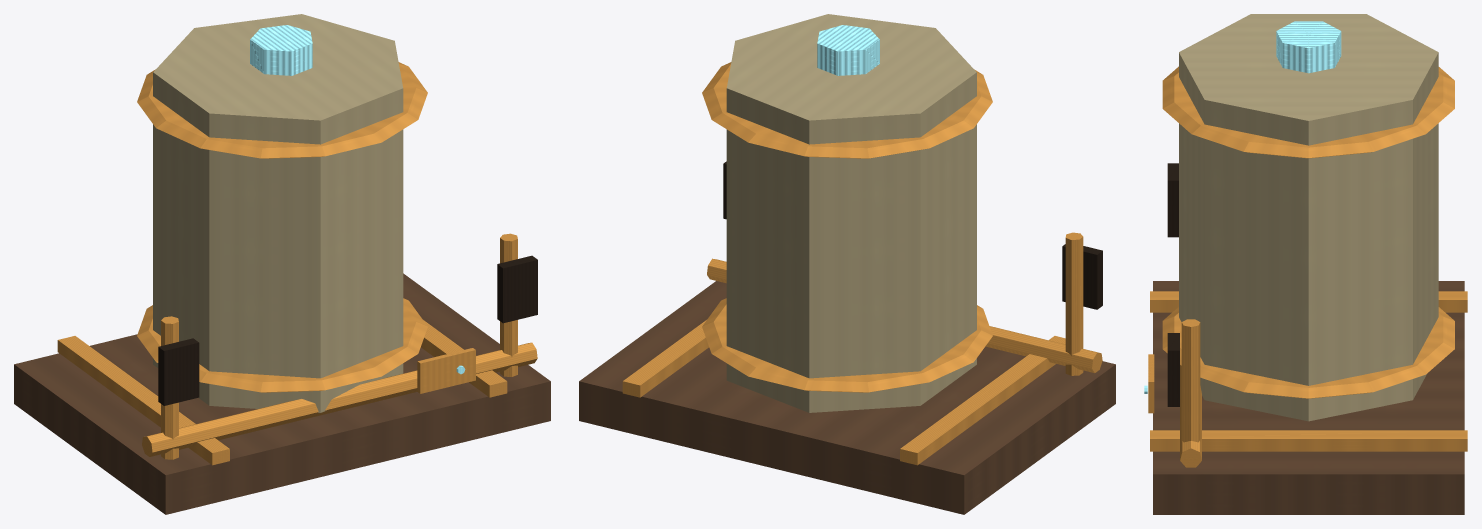
Rendered from atlas100-s015-a02.lod1.glb.
3 views of the same model, side by side, from view 1: azimuth 30°, elevation 25°; view 2: azimuth 150°, elevation 25°; view 3: azimuth 270°, elevation 25° (orthographic). The views are drawn at different scales.
Visible parts, largest first — view 1: atlas100-s015-a02:part-003, atlas100-s015-a02:part-000, atlas100-s015-a02:part-011, atlas100-s015-a02:part-005, atlas100-s015-a02:part-004, atlas100-s015-a02:part-001, atlas100-s015-a02:part-006, atlas100-s015-a02:part-008, atlas100-s015-a02:part-010, atlas100-s015-a02:part-012, atlas100-s015-a02:part-002, atlas100-s015-a02:part-007 (+1 smaller); view 2: atlas100-s015-a02:part-003, atlas100-s015-a02:part-000, atlas100-s015-a02:part-005, atlas100-s015-a02:part-004, atlas100-s015-a02:part-001, atlas100-s015-a02:part-006, atlas100-s015-a02:part-011, atlas100-s015-a02:part-007, atlas100-s015-a02:part-002, atlas100-s015-a02:part-008; view 3: atlas100-s015-a02:part-003, atlas100-s015-a02:part-000, atlas100-s015-a02:part-005, atlas100-s015-a02:part-002, atlas100-s015-a02:part-004, atlas100-s015-a02:part-006, atlas100-s015-a02:part-009, atlas100-s015-a02:part-001, atlas100-s015-a02:part-010, atlas100-s015-a02:part-008, atlas100-s015-a02:part-011, atlas100-s015-a02:part-012.
Boxes of the visible parts, <box> form: atlas100-s015-a02:part-003: <box>153,14,403,412</box>; atlas100-s015-a02:part-000: <box>14,273,550,514</box>; atlas100-s015-a02:part-011: <box>142,342,537,456</box>; atlas100-s015-a02:part-005: <box>137,62,427,158</box>; atlas100-s015-a02:part-004: <box>137,298,427,392</box>; atlas100-s015-a02:part-001: <box>57,336,229,465</box>; atlas100-s015-a02:part-006: <box>250,25,312,75</box>; atlas100-s015-a02:part-008: <box>158,338,199,405</box>; atlas100-s015-a02:part-010: <box>497,255,537,323</box>; atlas100-s015-a02:part-012: <box>417,348,475,393</box>; atlas100-s015-a02:part-002: <box>421,320,507,397</box>; atlas100-s015-a02:part-007: <box>161,316,178,459</box>; atlas100-s015-a02:part-003: <box>726,14,976,412</box>; atlas100-s015-a02:part-000: <box>579,281,1115,514</box>; atlas100-s015-a02:part-005: <box>702,62,992,158</box>; atlas100-s015-a02:part-004: <box>702,298,992,392</box>; atlas100-s015-a02:part-001: <box>900,336,1065,465</box>; atlas100-s015-a02:part-006: <box>817,25,879,75</box>; atlas100-s015-a02:part-011: <box>707,258,1102,373</box>; atlas100-s015-a02:part-007: <box>1065,232,1083,375</box>; atlas100-s015-a02:part-002: <box>622,320,708,397</box>; atlas100-s015-a02:part-008: <box>1062,244,1102,309</box>; atlas100-s015-a02:part-003: <box>1179,14,1438,421</box>; atlas100-s015-a02:part-000: <box>1153,281,1464,514</box>; atlas100-s015-a02:part-005: <box>1162,66,1454,158</box>; atlas100-s015-a02:part-002: <box>1150,430,1467,451</box>; atlas100-s015-a02:part-004: <box>1162,307,1454,398</box>; atlas100-s015-a02:part-006: <box>1276,21,1341,73</box>; atlas100-s015-a02:part-009: <box>1181,319,1200,442</box>; atlas100-s015-a02:part-001: <box>1150,291,1467,312</box>; atlas100-s015-a02:part-010: <box>1167,333,1179,406</box>; atlas100-s015-a02:part-008: <box>1167,163,1178,237</box>; atlas100-s015-a02:part-011: <box>1180,365,1201,467</box>; atlas100-s015-a02:part-012: <box>1148,354,1154,413</box>.
Bounding box in the file's own units: 2.64 × 2.45 × 1.87.
Materials: 5 (5 with a texture image).
